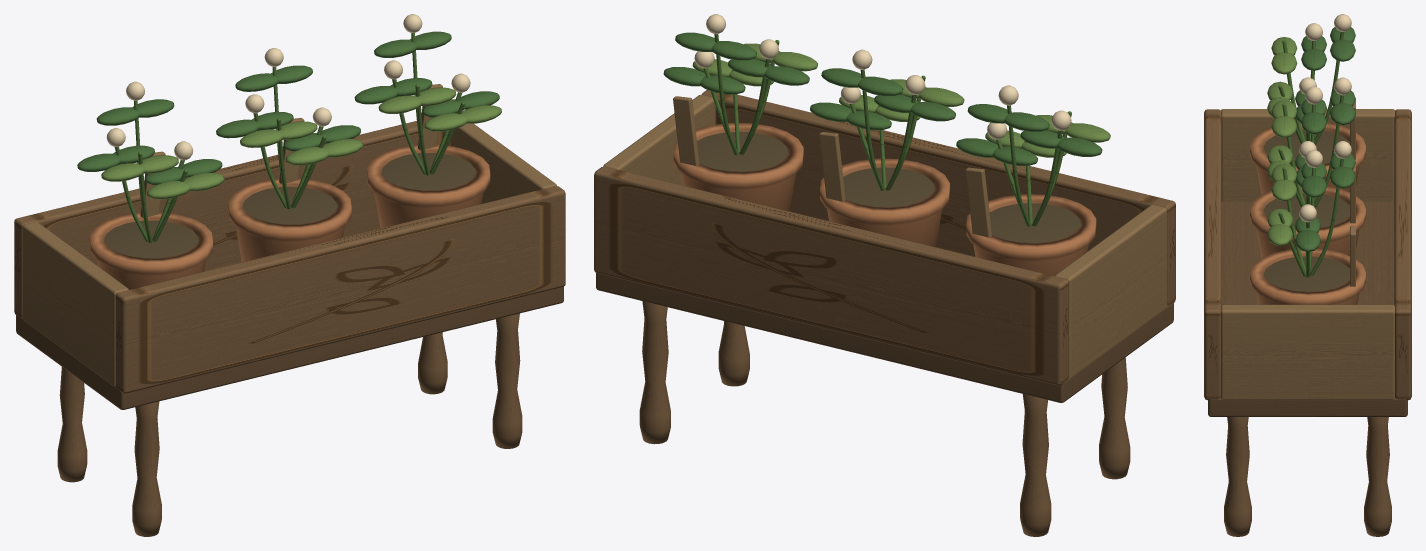
The model's file is jardinera.glb.
The picture shows the model from 3 angles, left to right: view 1: azimuth 30°, elevation 25°; view 2: azimuth 150°, elevation 25°; view 3: azimuth 270°, elevation 25°; orthographic projection. The views are drawn at different scales.
Parts seen in each view (by area): view 1: jardinera; view 2: jardinera; view 3: jardinera.
Part boxes in pixels (<box>): jardinera: <box>14,14,565,536</box>; jardinera: <box>594,14,1175,536</box>; jardinera: <box>1204,14,1411,536</box>.
Size of the model in its own units: 0.961 by 0.822 by 0.415.
1 material, 1 textured.
